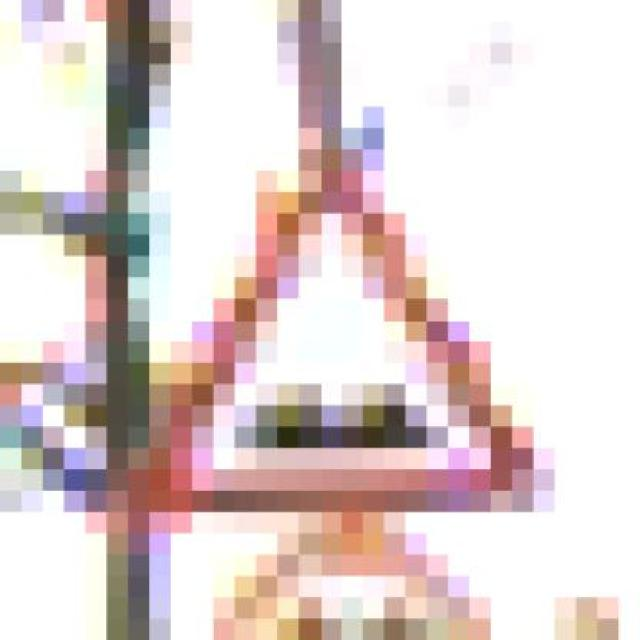Uneven Road: (86, 149, 554, 534)
